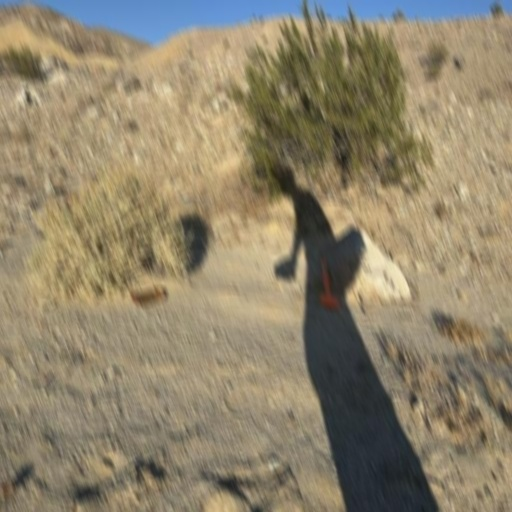mallet: (314, 250, 343, 317)
